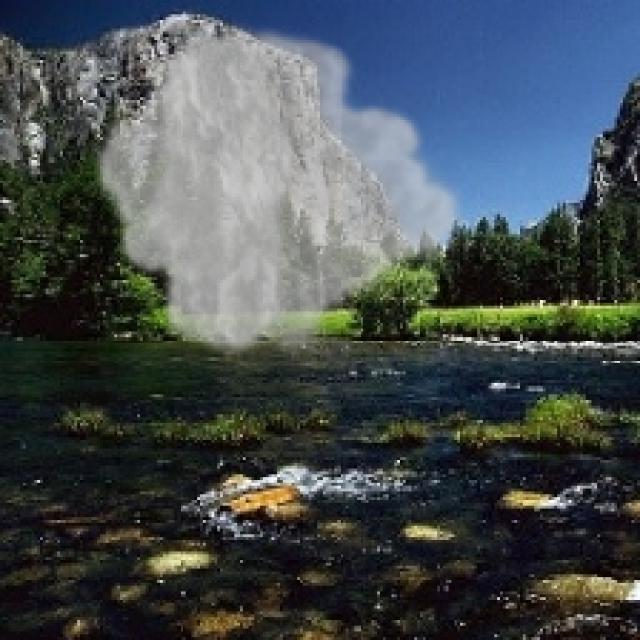Smoke: (91, 17, 468, 363)
